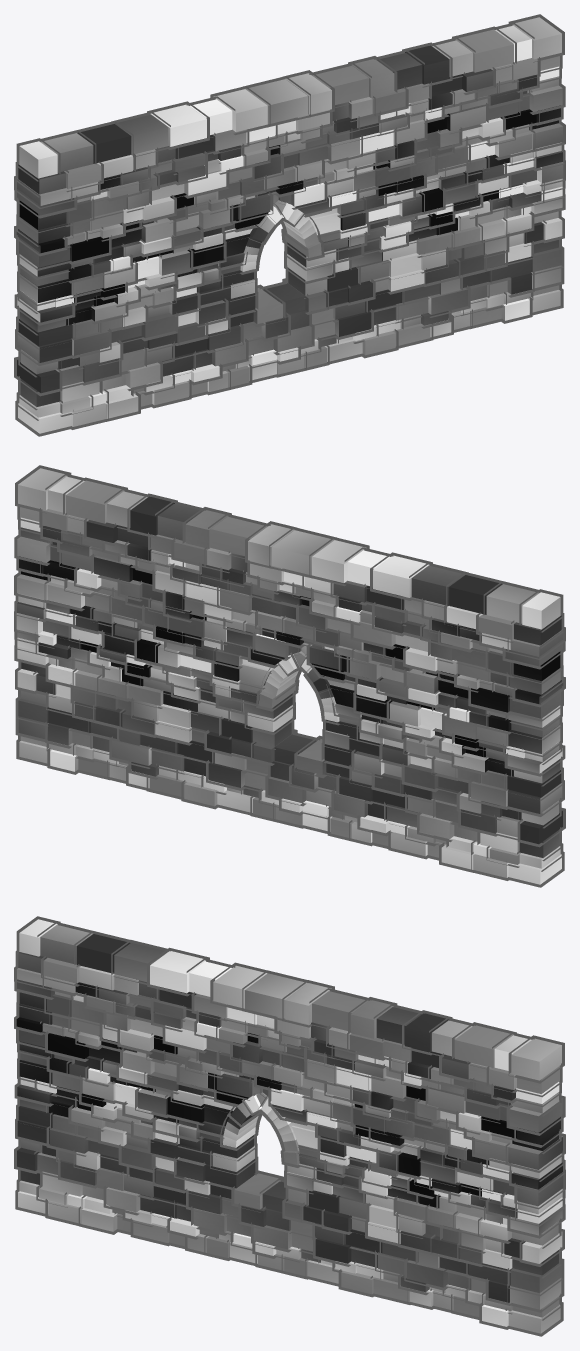
File: Wall_Window.glb
The picture shows the model from 3 angles, top to bottom: view 1: azimuth 30°, elevation 25°; view 2: azimuth 150°, elevation 25°; view 3: azimuth 330°, elevation 25°; orthographic projection.
Parts seen in each view (by area): view 1: Wall; view 2: Wall; view 3: Wall.
Boxes of the visible parts, x1,y1,x2,y2 form: Wall: [14, 14, 565, 436]; Wall: [14, 465, 565, 887]; Wall: [14, 916, 565, 1336].
Bounding box in the file's own units: 30.21 × 15.19 × 2.69.
2 materials, 1 textured.
